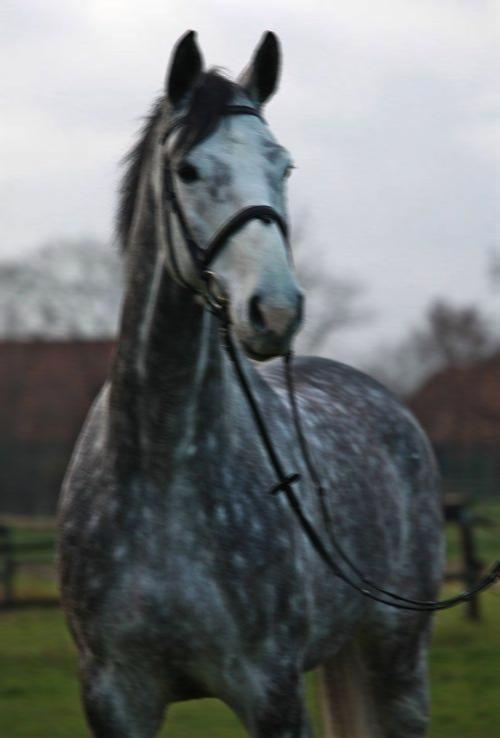horse: (53, 27, 446, 737)
